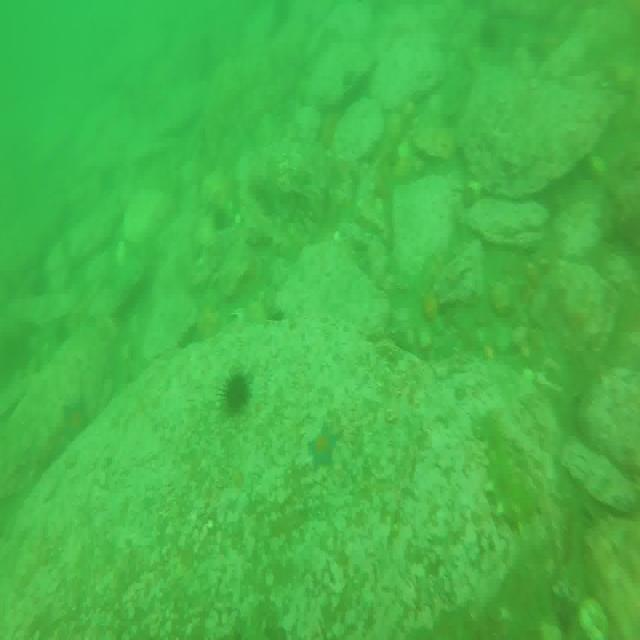echinus: (219, 370, 254, 417)
starfish: (306, 422, 343, 472), (58, 396, 93, 446)
